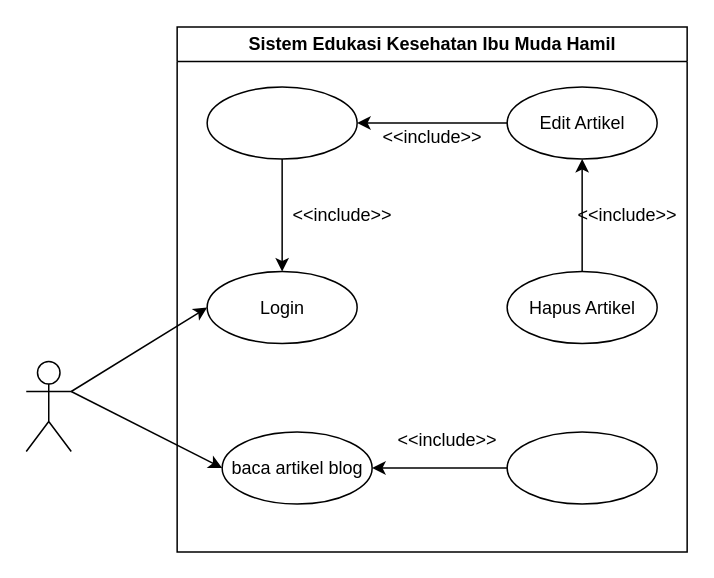
Some shapes in this 714 by 578 pixel diagram are drawn without their labels. The shapes that lost their labels are listed below. From the top down, each one's centre as x and y in pixels, then its label:
(281,122): Buat Artikel
(48,406): user
(581,467): tampilan rekomendasi artikel blog
